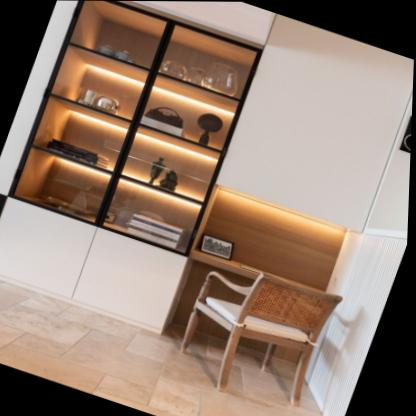Cupboard: (0, 0, 272, 336)
